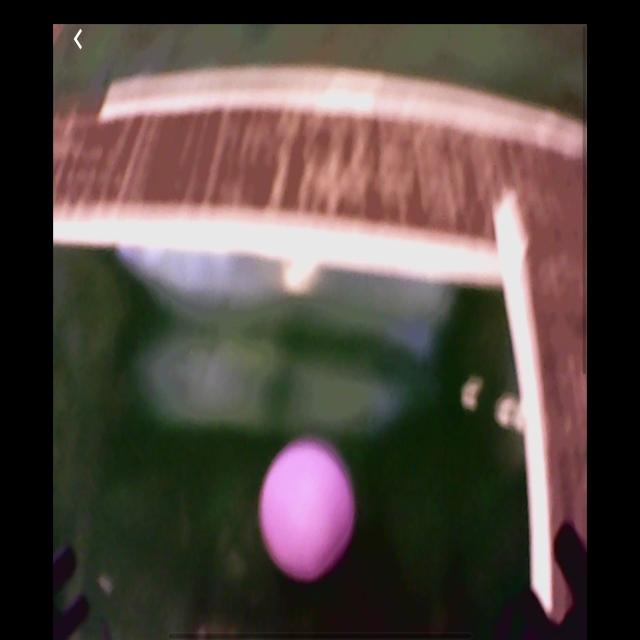ball: (258, 437, 358, 581)
